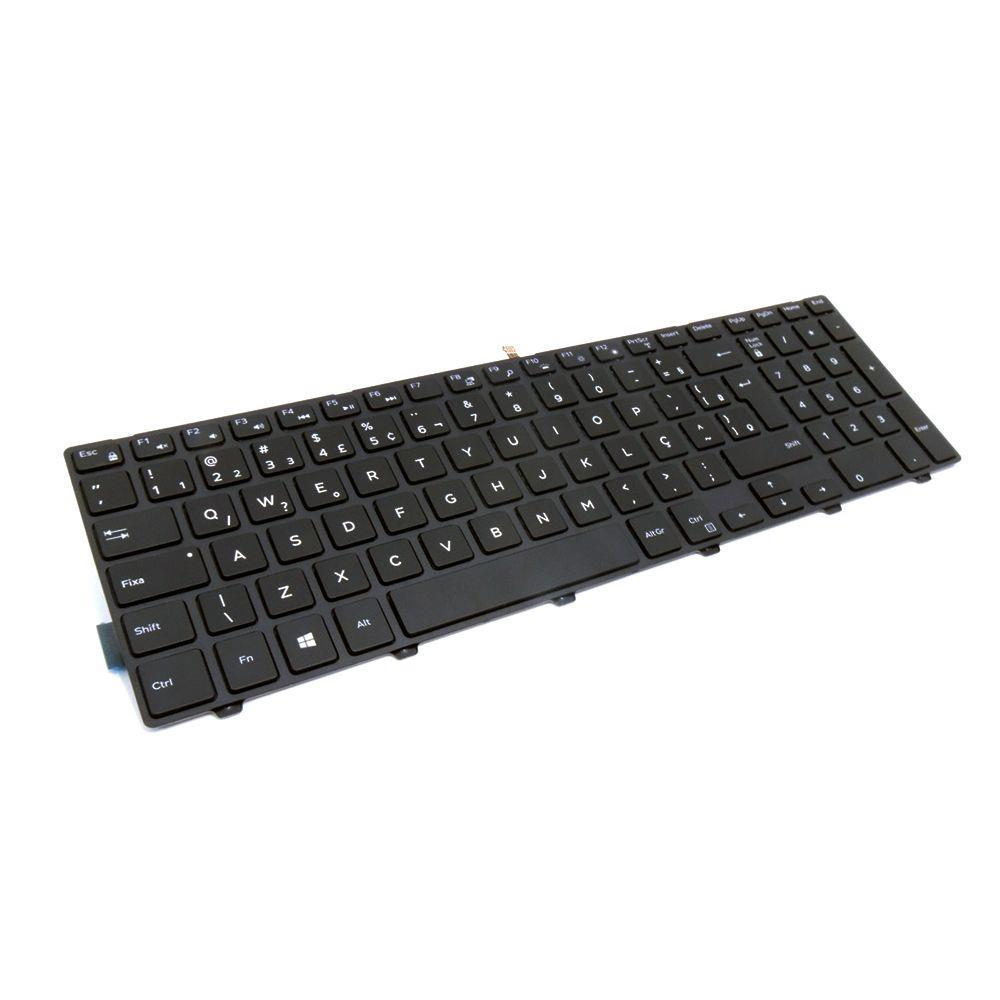keyboard: (62, 288, 962, 734)
